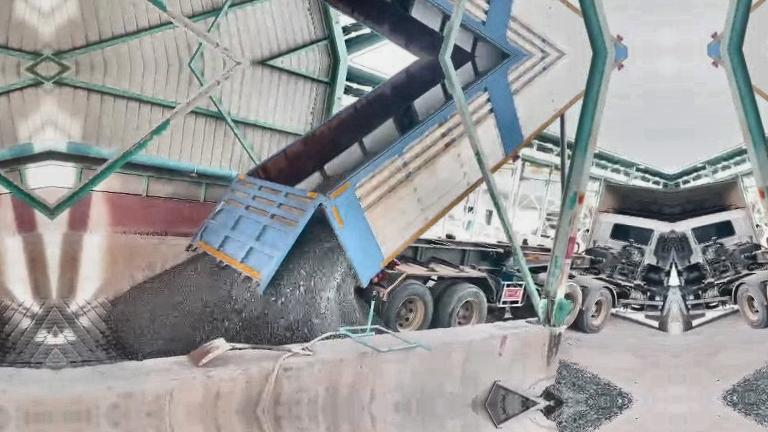gravel: (108, 214, 368, 359), (543, 360, 634, 402), (317, 167, 351, 192)
